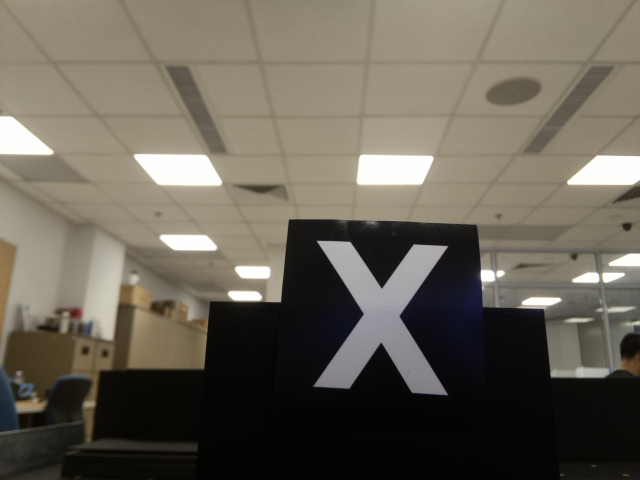x: (300, 233, 462, 403)
